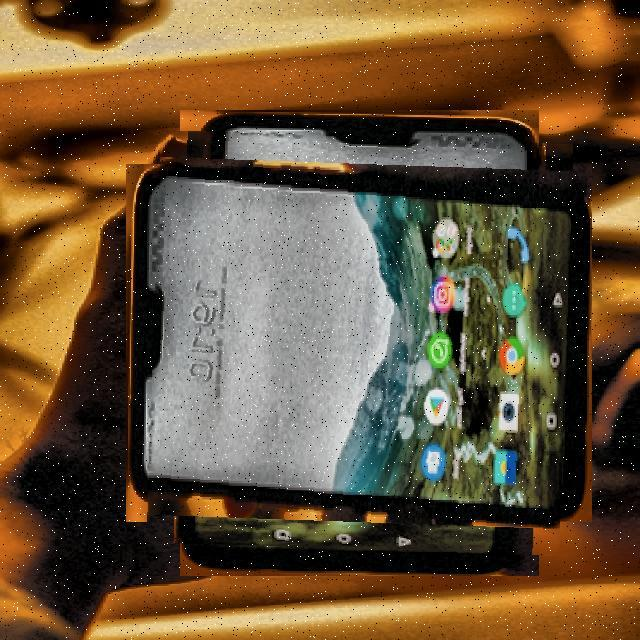Phone: (150, 133, 570, 552)
